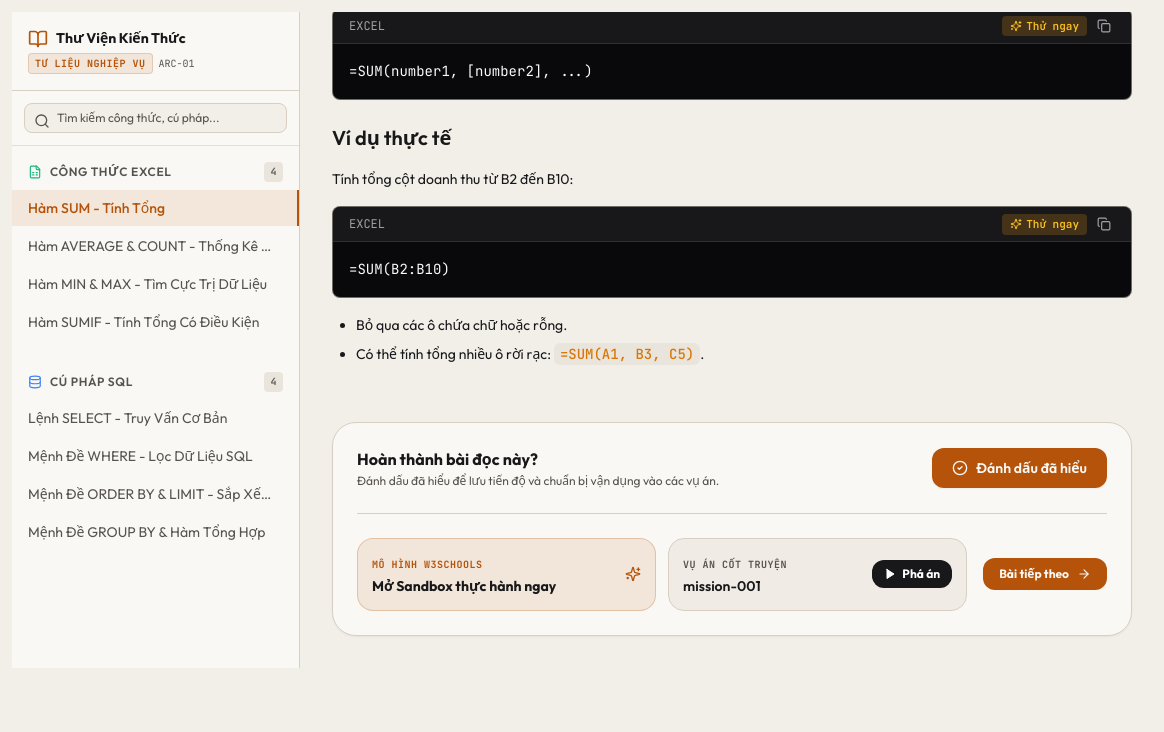
Scenario: KnowledgeHubPage Component Tests › đánh dấu bài học đã hiểu và chuyển đổi trạng thái
This screenshot has width=1164, height=732.
(page scrolled)
Click the button "Đánh dấu đã hiểu": {"x": 1020, "y": 468} [932,448,1107,488]
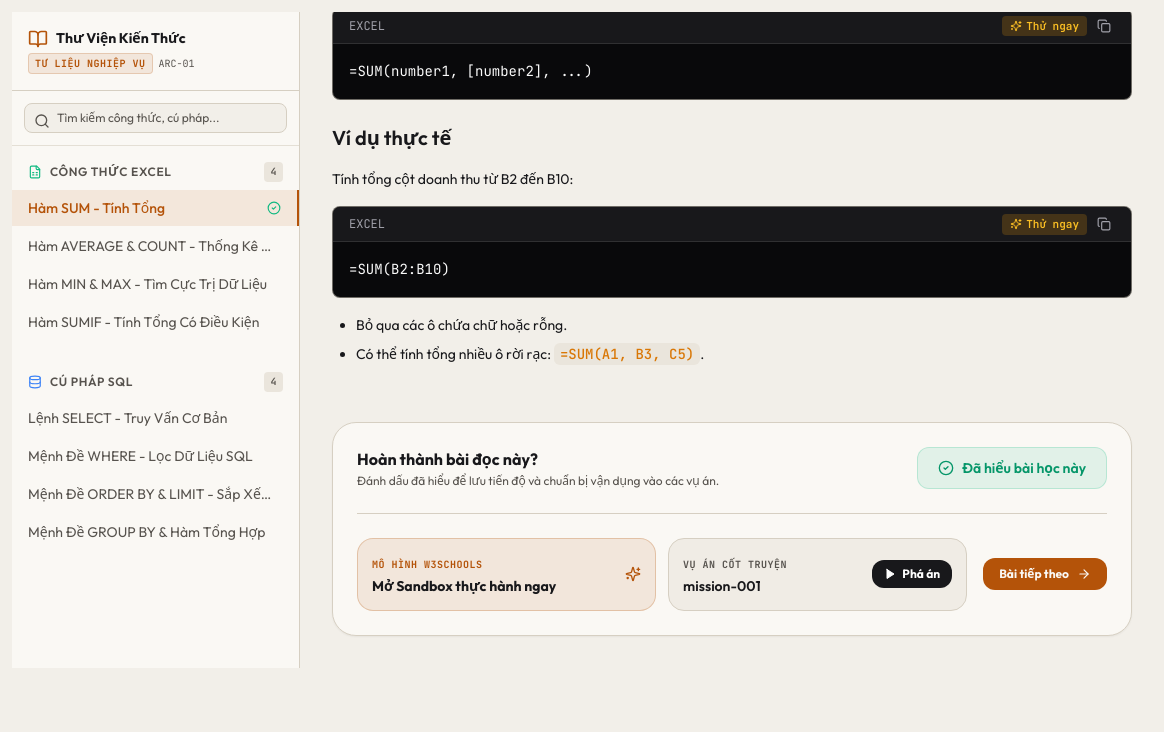
Now the text "Đã hiểu bài học này" is shown, box [962,458,1086,478]
